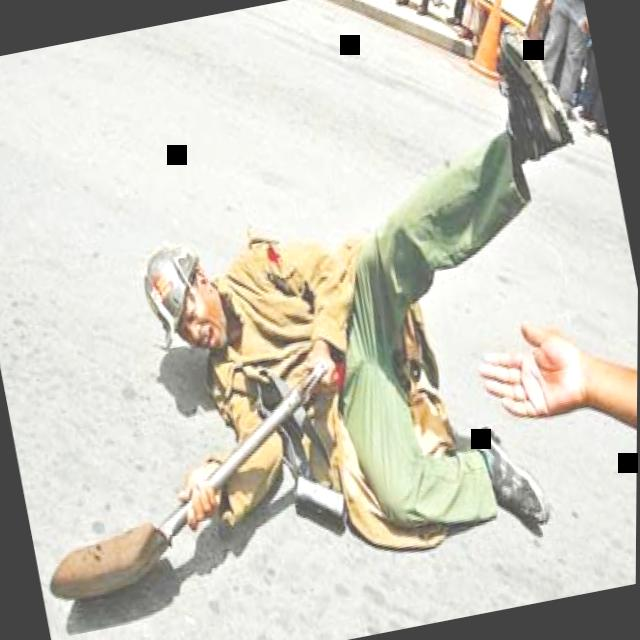Fall-Detected: (69, 1, 635, 616)
